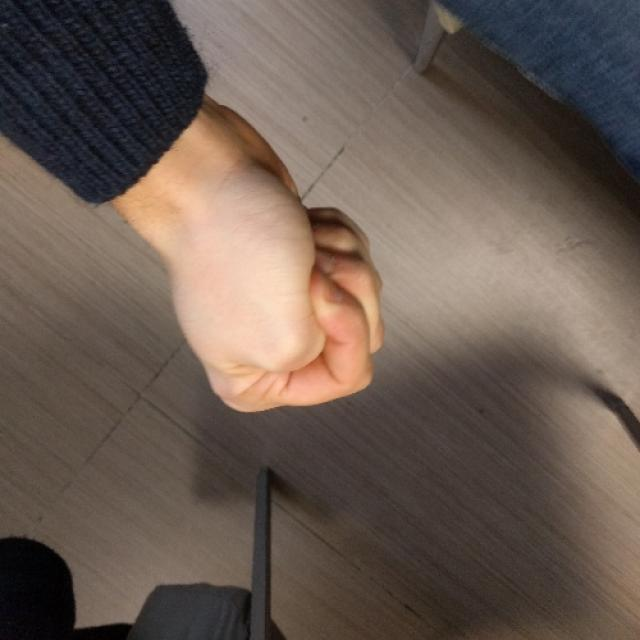fist: (166, 174, 392, 416)
